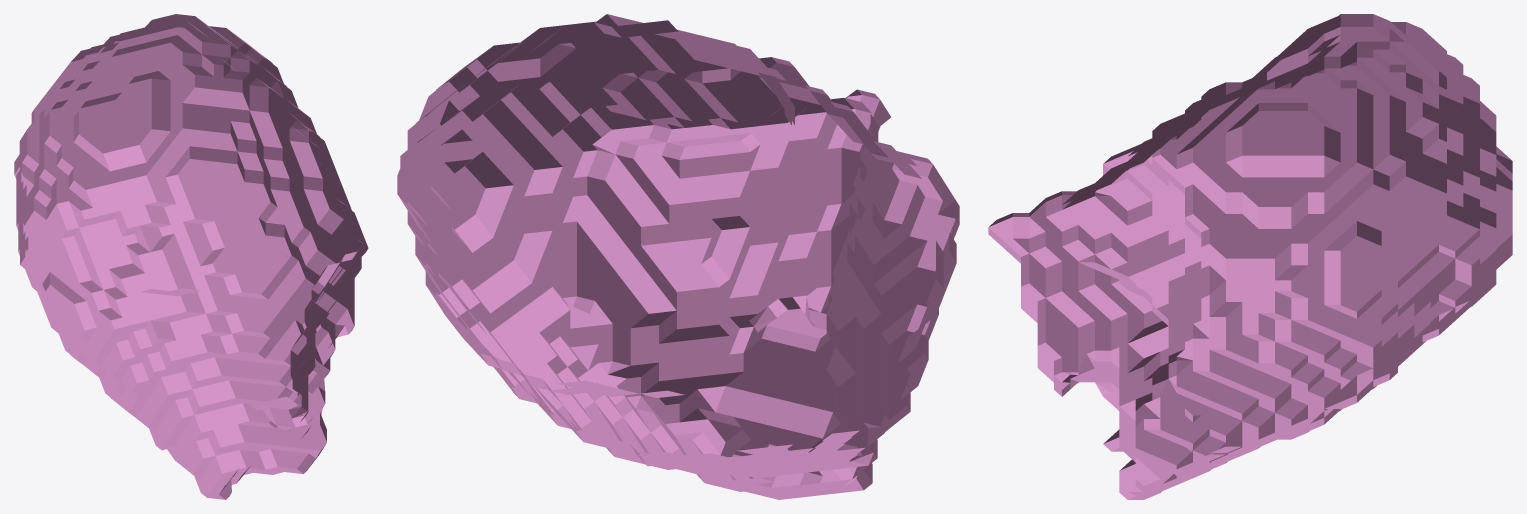
The model's file is region_0132_SD__dorsal_sac_.glb.
The picture shows the model from 3 angles, left to right: view 1: azimuth 30°, elevation 25°; view 2: azimuth 150°, elevation 25°; view 3: azimuth 270°, elevation 25°; orthographic projection. The views are drawn at different scales.
Visible parts, largest first — view 1: world; view 2: world; view 3: world.
Part boxes in pixels (box(x1,y1,x2,y2)): world: box(14, 14, 368, 499); world: box(397, 14, 959, 499); world: box(988, 14, 1512, 499).
Size of the model in its own units: 0.2 by 0.232 by 0.256.
